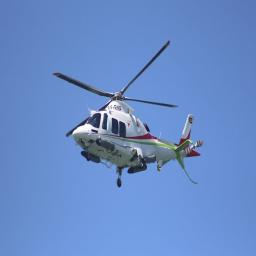helicopter: (57, 47, 205, 180)
